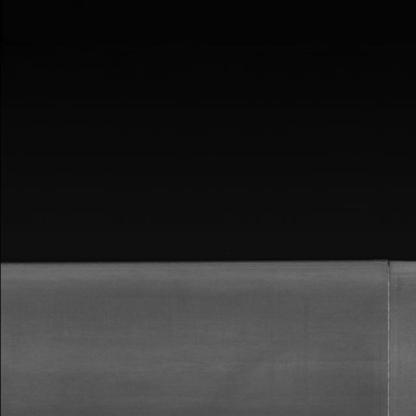welding_line: (368, 249, 404, 416)
